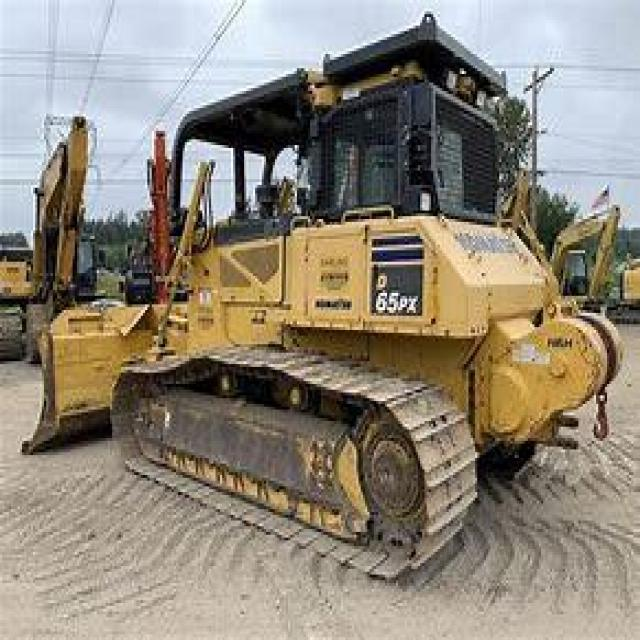Bulldozer: (18, 9, 622, 578)
